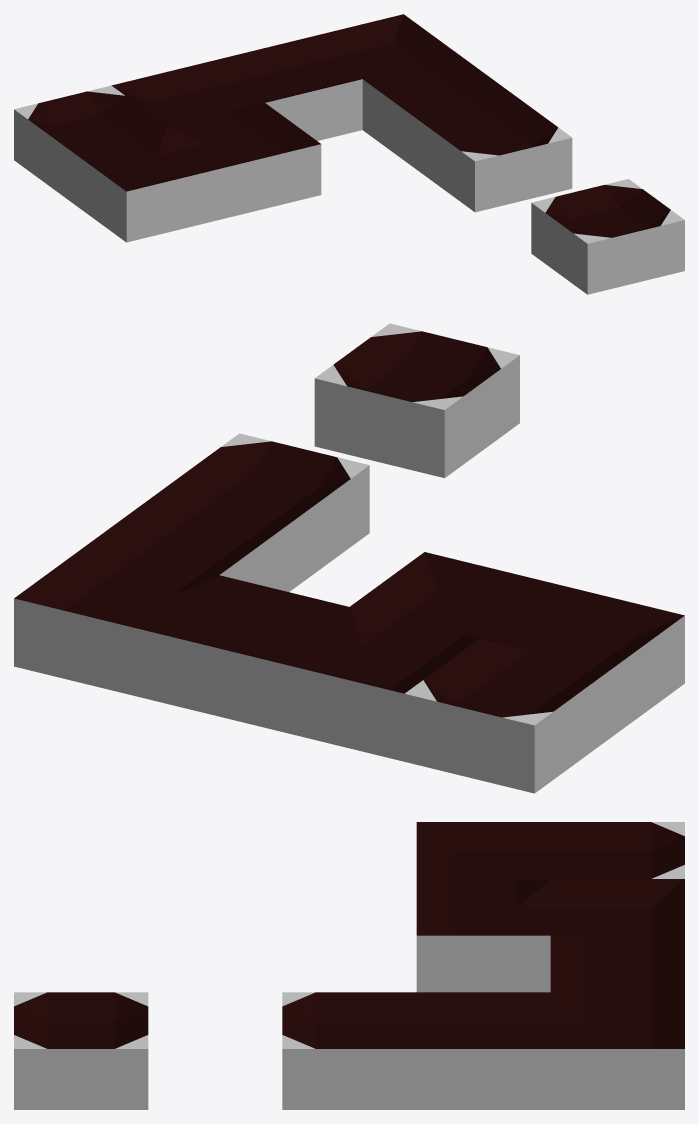
The model's file is 44f_path.obj.
3 views of the same model, one above another, from view 1: azimuth 30°, elevation 25°; view 2: azimuth 150°, elevation 25°; view 3: azimuth 270°, elevation 25° (orthographic). The views are drawn at different scales.
Visible parts, largest first — view 1: foil.hole.4.0_Cube.089, foil.ending.4.2_ending.176, foil.corner.1.3_corner.440, foil.corner.2.3_corner.441, foil.ending.1.4_ending.175, foil.through.3.4_through.086, foil.through.4.3_through.087, foil.corner.4.4_corner.443, foil.corner.2.4_corner.442; view 2: foil.hole.4.0_Cube.089, foil.ending.1.4_ending.175, foil.through.3.4_through.086, foil.corner.4.4_corner.443, foil.ending.4.2_ending.176, foil.corner.2.4_corner.442, foil.corner.1.3_corner.440, foil.through.4.3_through.087, foil.corner.2.3_corner.441; view 3: foil.hole.4.0_Cube.089, foil.ending.4.2_ending.176, foil.through.4.3_through.087, foil.corner.4.4_corner.443, foil.corner.2.3_corner.441, foil.corner.1.3_corner.440, foil.corner.2.4_corner.442, foil.through.3.4_through.086, foil.ending.1.4_ending.175.
Part boxes in pixels (x1,y1,x2,y2): foil.hole.4.0_Cube.089: (531, 179, 684, 294); foil.ending.4.2_ending.176: (418, 96, 572, 212); foil.corner.1.3_corner.440: (70, 127, 223, 242); foil.corner.2.3_corner.441: (168, 103, 321, 218); foil.ending.1.4_ending.175: (14, 85, 167, 200); foil.through.3.4_through.086: (209, 38, 362, 140); foil.through.4.3_through.087: (362, 55, 515, 170); foil.corner.4.4_corner.443: (306, 14, 459, 85); foil.corner.2.4_corner.442: (111, 61, 264, 133); foil.hole.4.0_Cube.089: (314, 323, 519, 478); foil.ending.1.4_ending.175: (404, 639, 609, 793); foil.through.3.4_through.086: (144, 575, 349, 729); foil.corner.4.4_corner.443: (14, 543, 218, 697); foil.ending.4.2_ending.176: (164, 433, 369, 587); foil.corner.2.4_corner.442: (274, 607, 478, 761); foil.corner.1.3_corner.440: (480, 584, 684, 737); foil.through.4.3_through.087: (89, 488, 294, 591); foil.corner.2.3_corner.441: (350, 552, 554, 647); foil.hole.4.0_Cube.089: (14, 992, 148, 1109); foil.ending.4.2_ending.176: (282, 992, 416, 1109); foil.through.4.3_through.087: (416, 992, 550, 1109); foil.corner.4.4_corner.443: (550, 992, 684, 1109); foil.corner.2.3_corner.441: (416, 879, 550, 992); foil.corner.1.3_corner.440: (416, 822, 550, 893); foil.corner.2.4_corner.442: (550, 879, 684, 950); foil.through.3.4_through.086: (550, 935, 684, 1007); foil.ending.1.4_ending.175: (550, 822, 684, 878).
Size of the model in its own units: 8 by 1 by 10.
